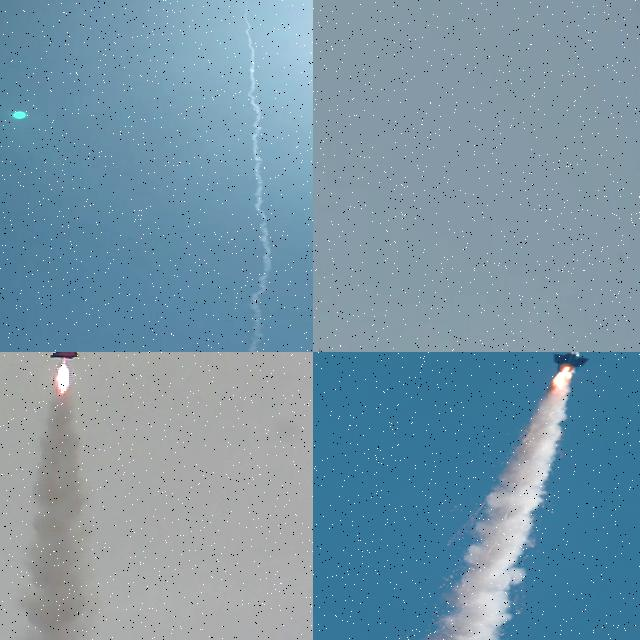Rocket: (553, 352, 594, 372), (245, 8, 248, 11)
